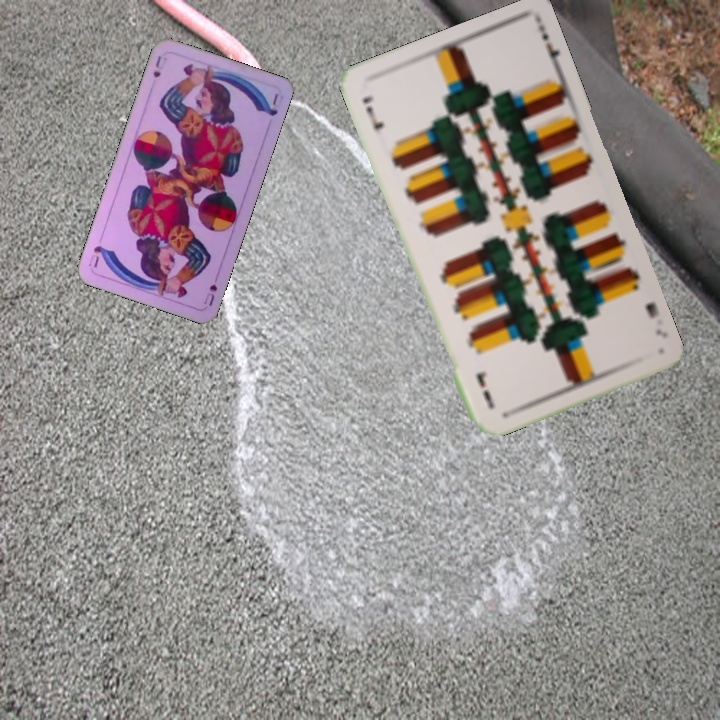E7: (640, 298, 671, 341), (359, 91, 387, 133)
SU: (199, 269, 221, 309), (149, 52, 169, 80)
